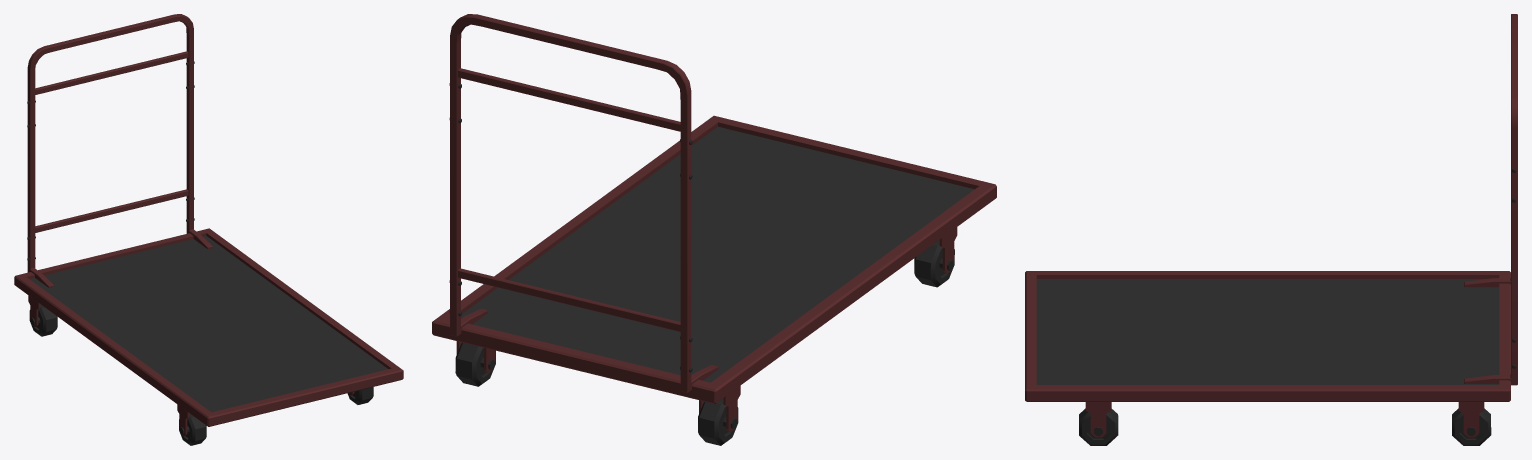
File: car_11.glb
3 renders of one model, left to right at view 1: azimuth 30°, elevation 25°; view 2: azimuth 150°, elevation 25°; view 3: azimuth 270°, elevation 25°, orthographic. The views are drawn at different scales.
Visible parts, largest first — view 1: car_11; view 2: car_11; view 3: car_11.
Boxes of the visible parts, bbox=[...] form: car_11: bbox=[14, 14, 403, 445]; car_11: bbox=[432, 14, 996, 445]; car_11: bbox=[1025, 14, 1517, 445].
Bounding box in the file's own units: 1.26 × 1.65 × 2.19.
1 material, 1 textured.
